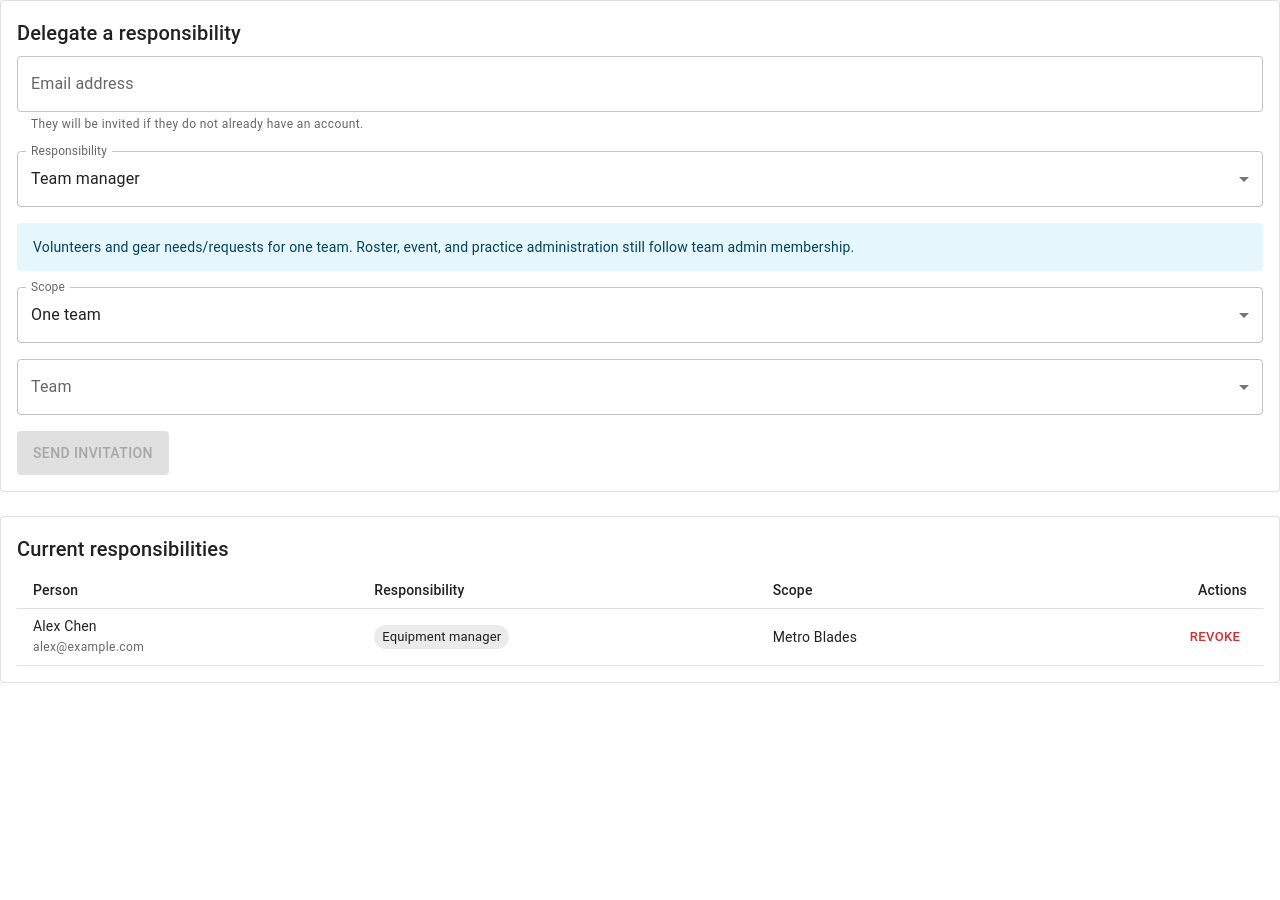
it: RoleGrantManager › only offers scopes the chosen role supports
This screenshot has width=1280, height=900.
Click the dropdown named "Responsibility": (85, 179) [31, 169, 140, 188]
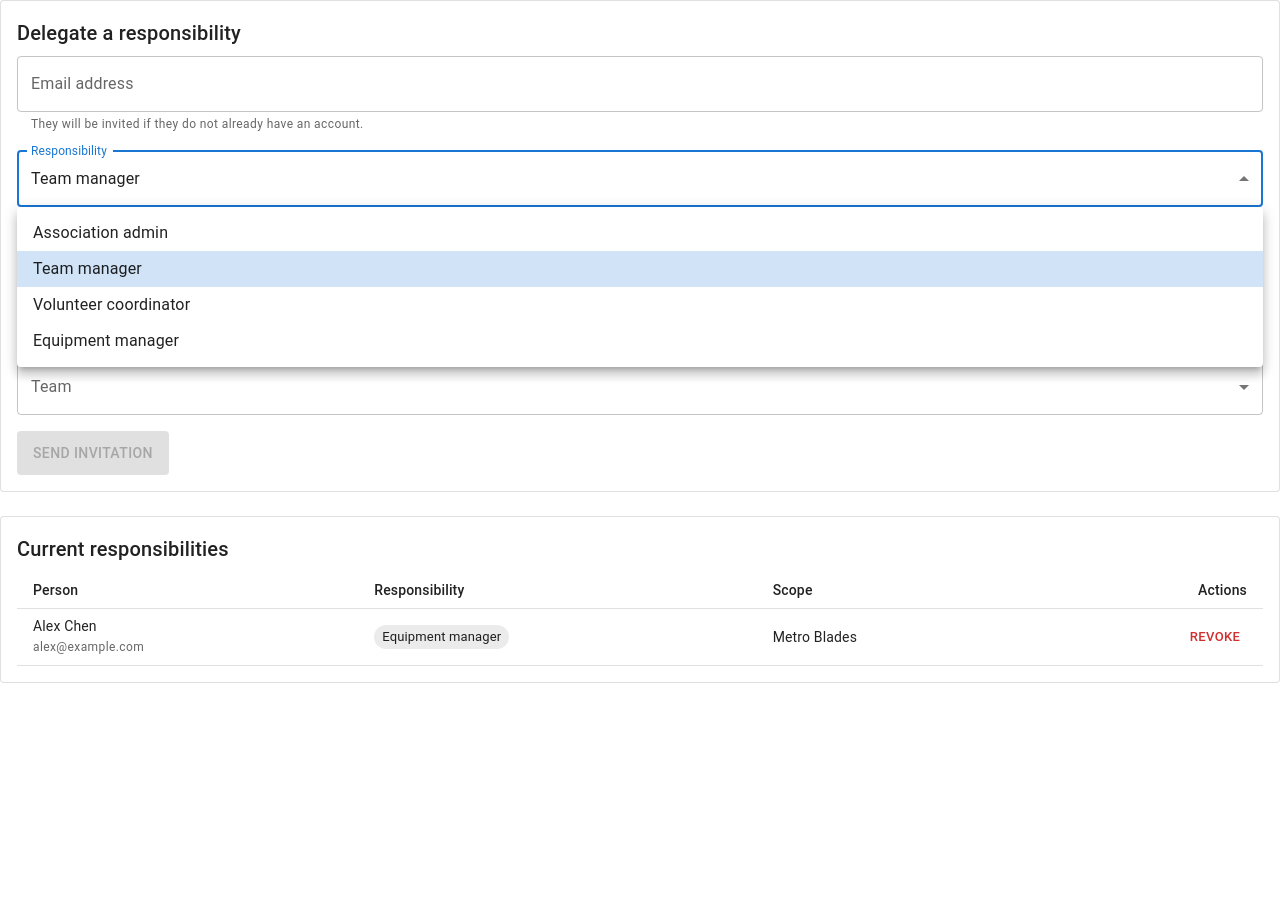
Click the option "Association admin": (101, 232) [33, 223, 168, 242]
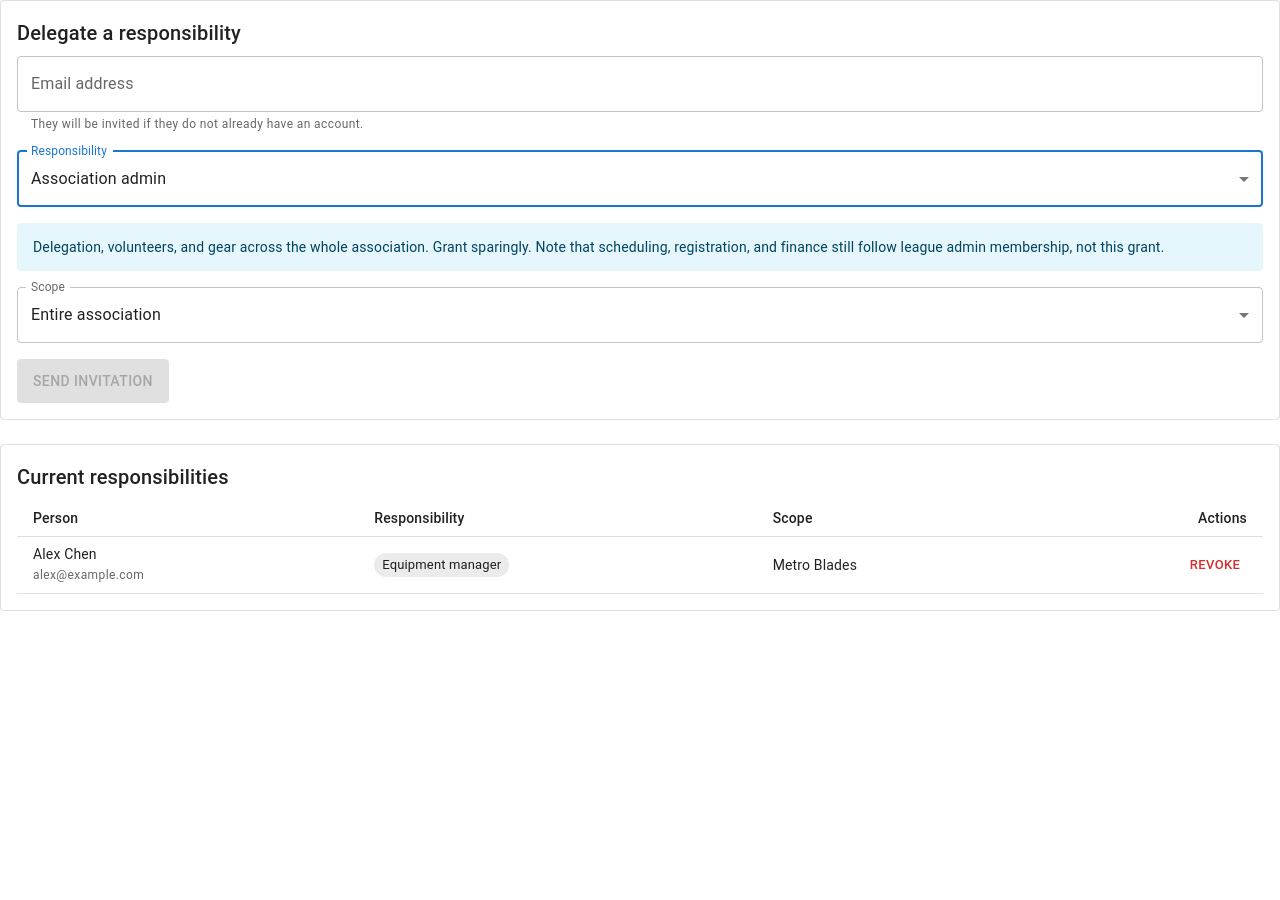
Click the dropdown named "Scope": (96, 315) [31, 305, 161, 324]
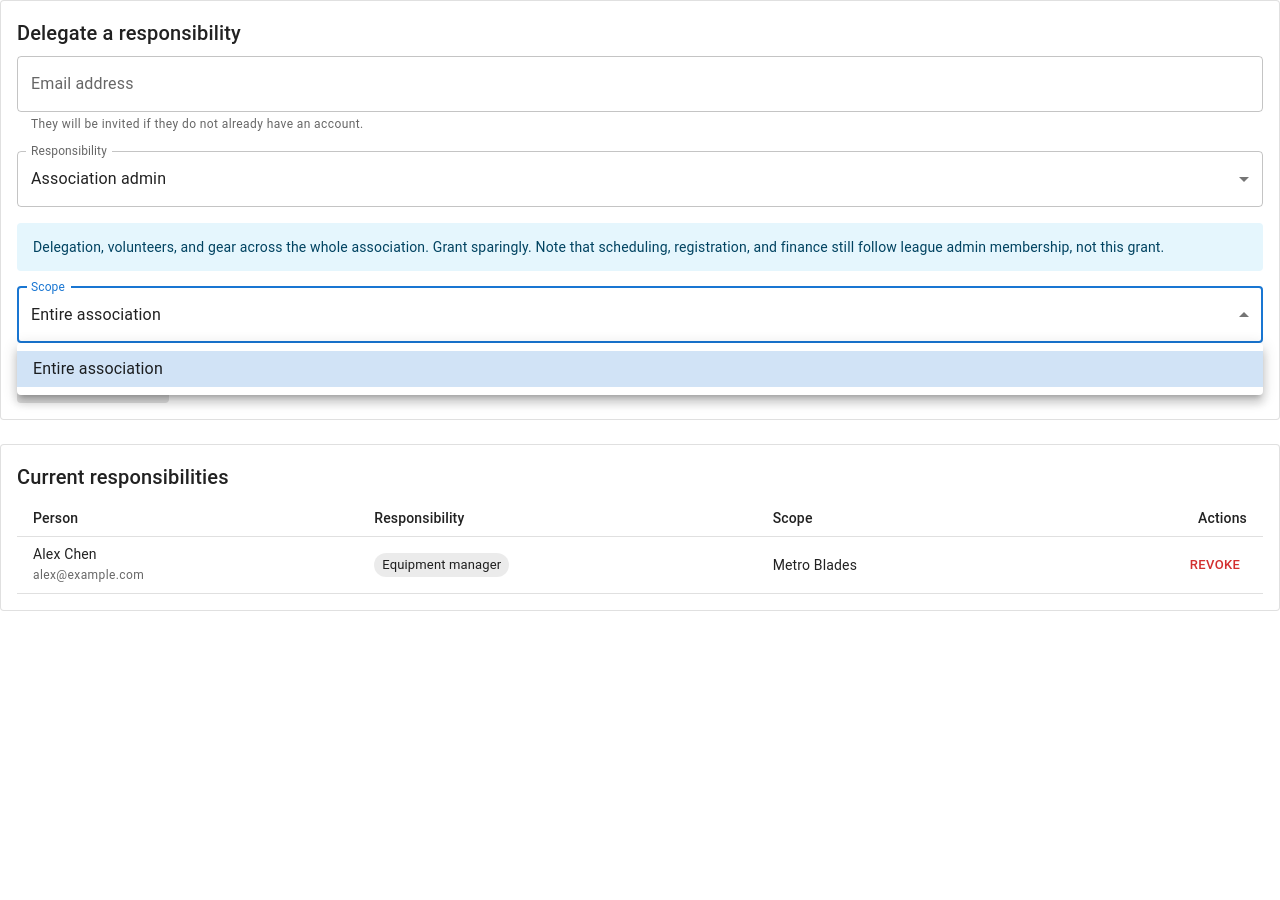
Expected: the text "one team" is not shown
Expected: the option "Entire association" is shown, [17, 351, 1263, 387]
